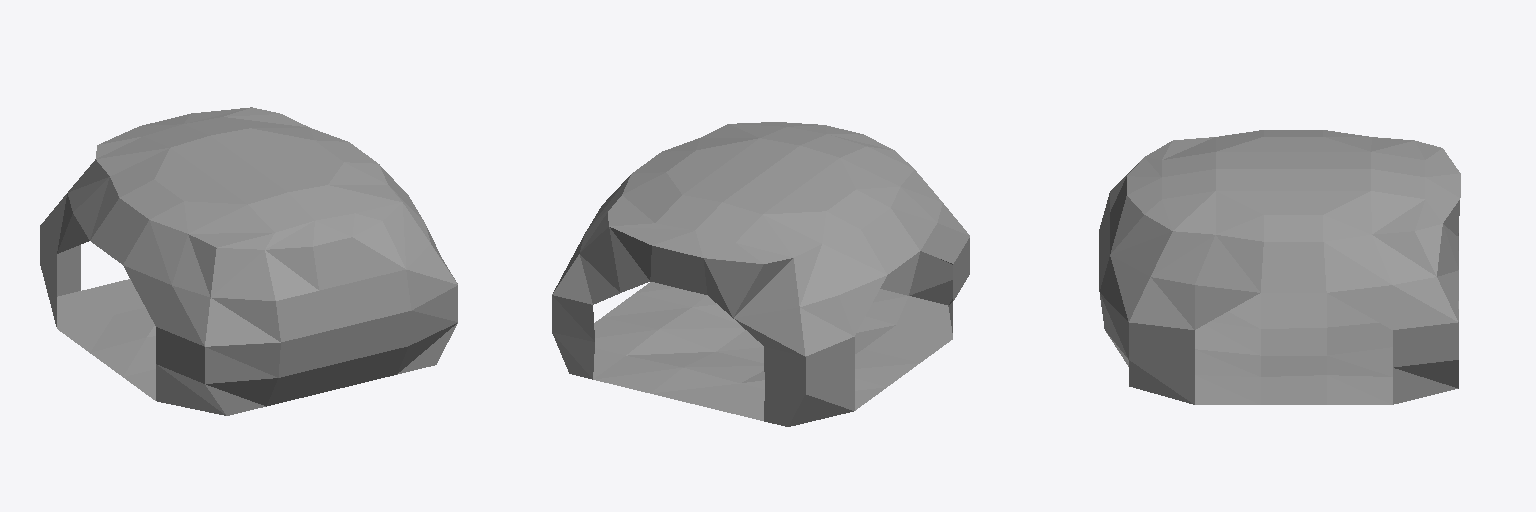
File: Mesh_CavePack_Room_Tjunction_lod0.obj
The picture shows the model from 3 angles: view 1: azimuth 30°, elevation 25°; view 2: azimuth 150°, elevation 25°; view 3: azimuth 270°, elevation 25°; orthographic projection.
Parts seen in each view (by area): view 1: Plane.005; view 2: Plane.005; view 3: Plane.005.
Part boxes in pixels (x1,y1,x2,y2): Plane.005: (40, 107, 457, 415); Plane.005: (552, 122, 969, 426); Plane.005: (1099, 130, 1460, 404).
Size of the model in its own units: 16 by 9.32 by 17.51.